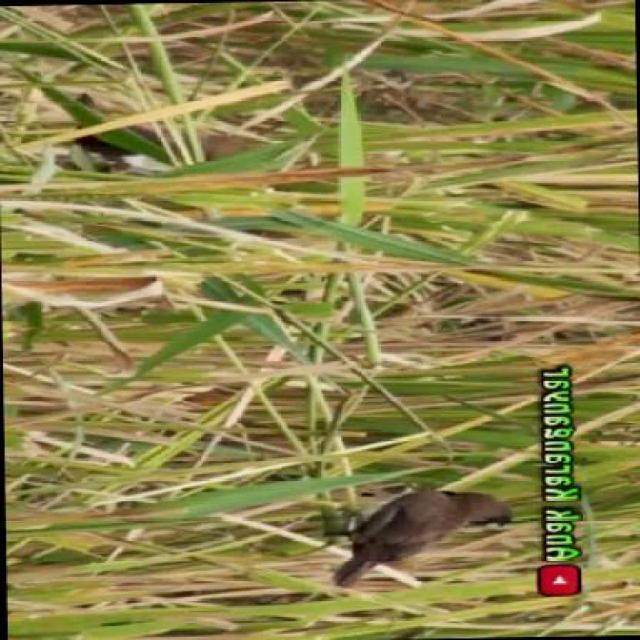Bird: (321, 477, 512, 593), (67, 99, 194, 177)
